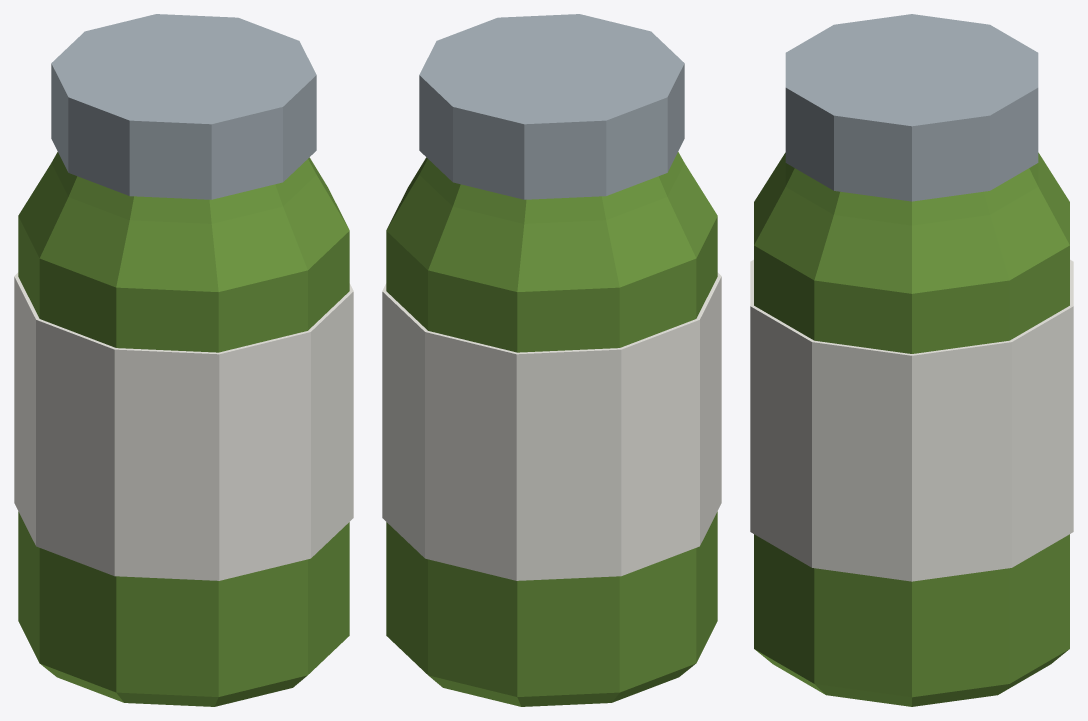
File: FD_Jar_Pickles_01.glb
3 renders of one model, left to right at view 1: azimuth 30°, elevation 25°; view 2: azimuth 150°, elevation 25°; view 3: azimuth 270°, elevation 25°, orthographic.
Parts seen in each view (by area): view 1: FD_Jar_Pickles_01; view 2: FD_Jar_Pickles_01; view 3: FD_Jar_Pickles_01.
Boxes of the visible parts, box(x1,y1,x2,y2) form: FD_Jar_Pickles_01: box(14, 14, 353, 706); FD_Jar_Pickles_01: box(382, 14, 721, 706); FD_Jar_Pickles_01: box(750, 14, 1073, 706).
Bounding box in the file's own units: 0.1024 × 0.191 × 0.0974.
1 material, 1 textured.
